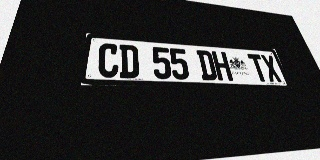5: (152, 47, 173, 79), (169, 48, 190, 80)
C: (97, 43, 119, 78)
D: (119, 44, 139, 78), (196, 50, 218, 80)
H: (211, 51, 233, 81)
T: (247, 54, 270, 82)
X: (260, 55, 283, 82)
